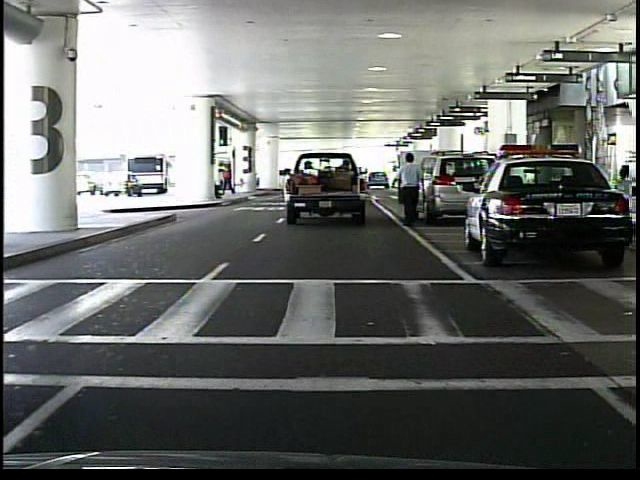person: (394, 152, 432, 230), (222, 160, 237, 199)
